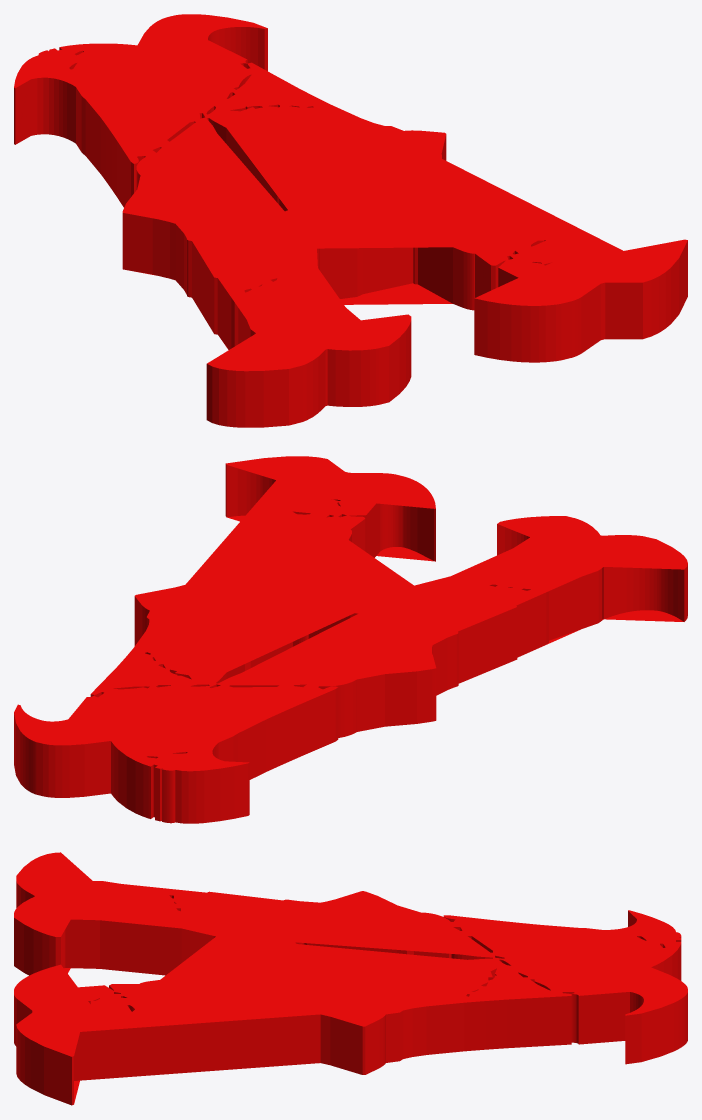
Rendered from LetterA.fbx.
3 views of the same model, one above another, from view 1: azimuth 30°, elevation 25°; view 2: azimuth 150°, elevation 25°; view 3: azimuth 270°, elevation 25° (orthographic). The views are drawn at different scales.
Parts seen in each view (by area): view 1: path2193; view 2: path2193; view 3: path2193.
Boxes of the visible parts, x1,y1,x2,y2 form: path2193: [14, 14, 687, 427]; path2193: [14, 456, 687, 823]; path2193: [14, 852, 687, 1105].
Bounding box in the file's own units: 4.51 × 0.5 × 6.28.
